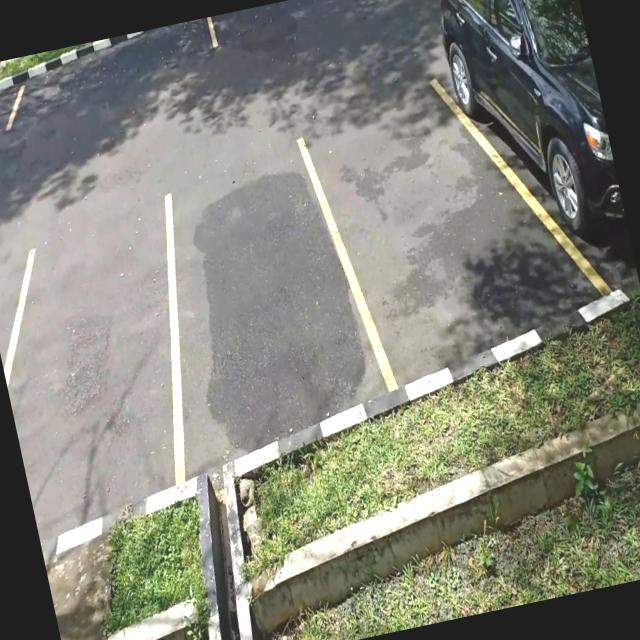empty: (150, 158, 379, 456), (312, 73, 534, 380), (0, 233, 202, 517), (2, 16, 226, 132), (207, 0, 427, 55)
occupied: (437, 0, 640, 317)
